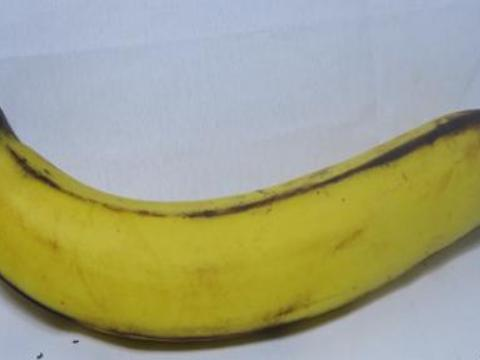ripe: (0, 79, 479, 359)
